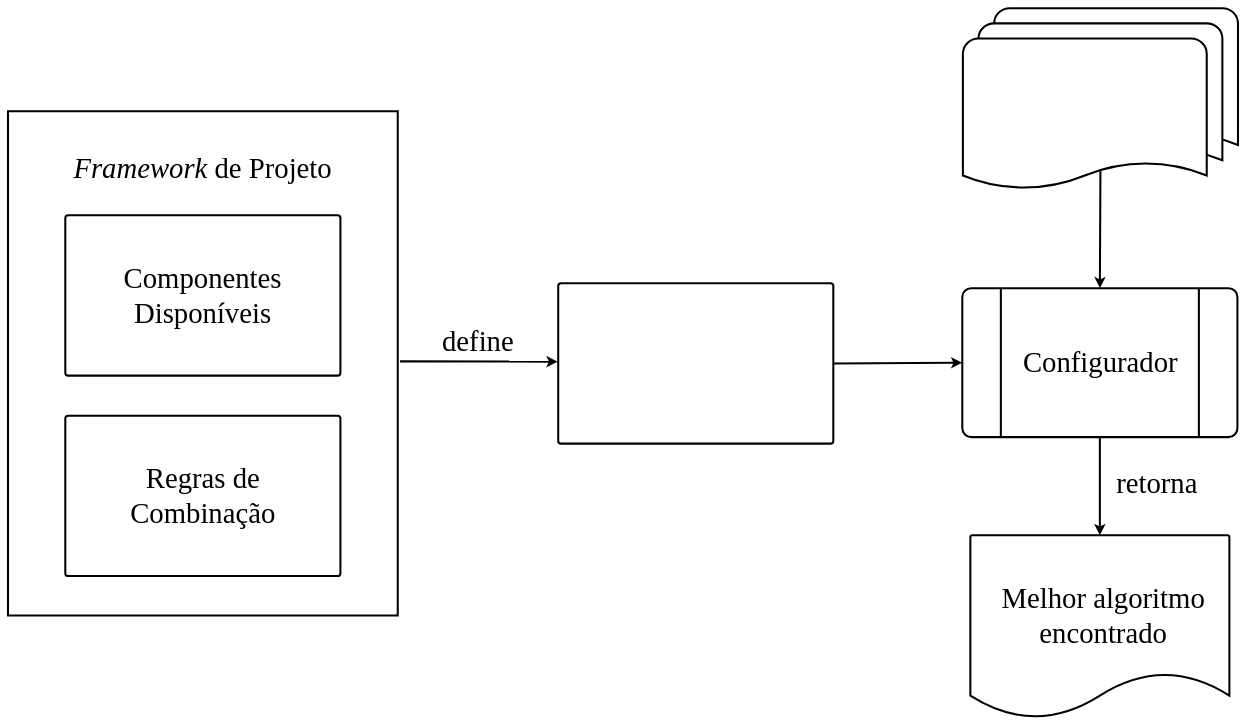
Image size: 1246x727. Some labels were removed from this diagram. The shapes that lost their labels are listed below. From the top down, each one's centre as x and y in pixels, then its label:
At [1100,99]: "Instâncias de treino".
At [695,363]: "Espaço de Projeto".
